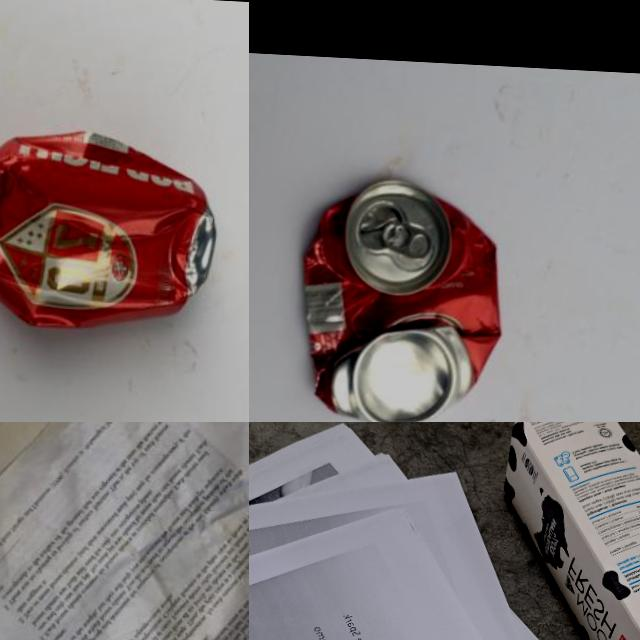aba de lata: (378, 218, 432, 257)
caixinha: (493, 422, 640, 640)
lata: (292, 170, 509, 422), (0, 119, 220, 338)
papel: (249, 422, 640, 640), (0, 422, 249, 640)
